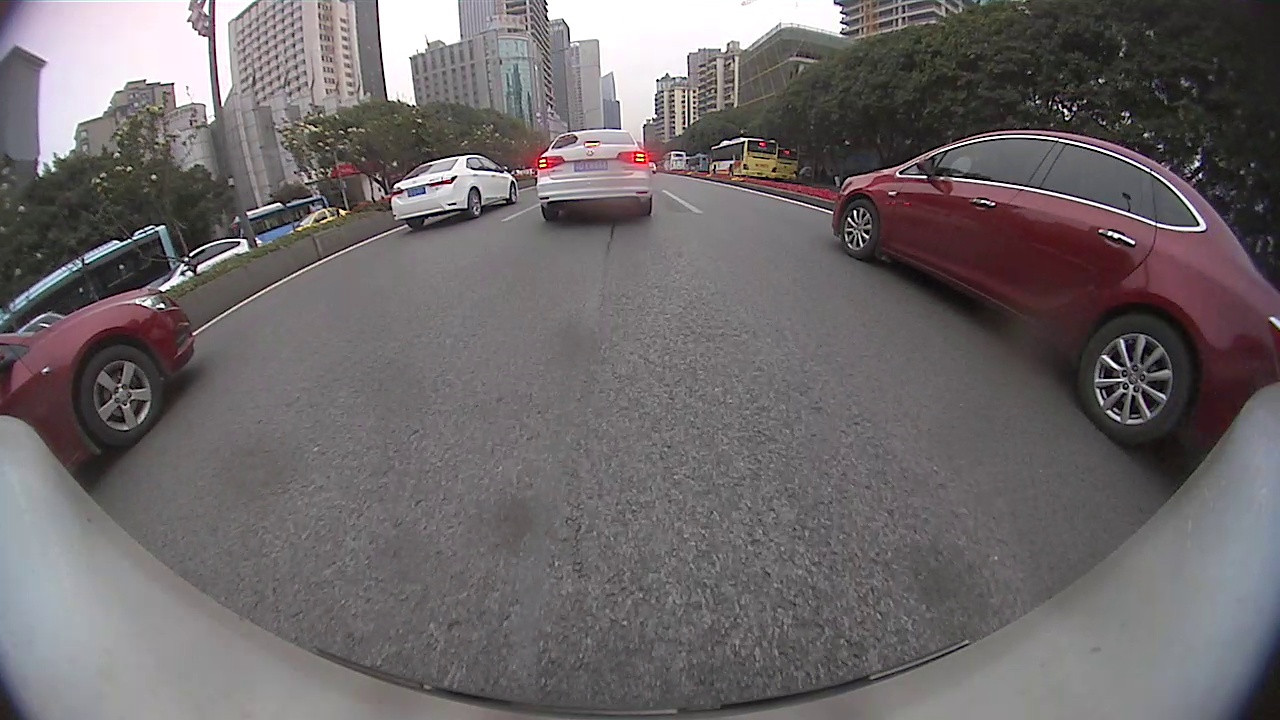bus: (1, 224, 183, 333), (234, 193, 328, 250), (711, 137, 782, 177), (775, 147, 805, 180), (663, 149, 688, 172), (690, 153, 709, 172)
car: (831, 128, 1279, 444), (1, 290, 196, 476), (536, 126, 653, 225), (389, 154, 520, 228), (163, 235, 261, 292), (297, 204, 352, 230)
front: (81, 346, 162, 445), (841, 199, 880, 258), (509, 181, 519, 204)
rear: (1076, 313, 1194, 444), (467, 190, 483, 218)
